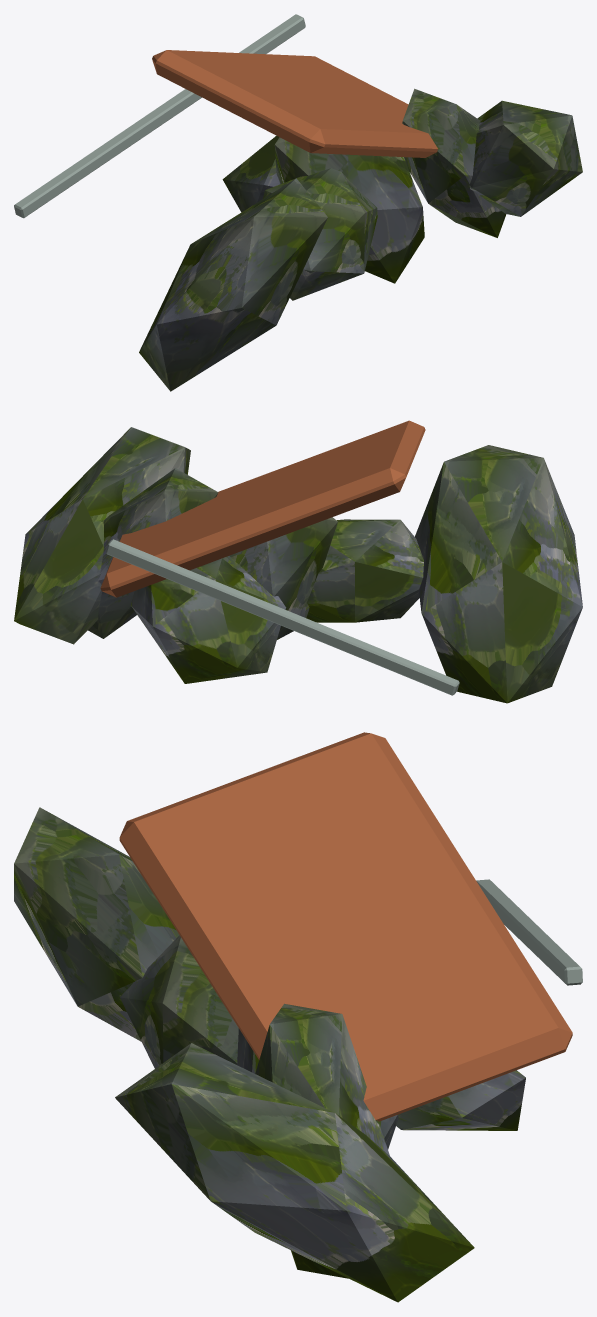
The model's file is Rubble_Cluster_3.glb.
The picture shows the model from 3 angles, top to bottom: view 1: azimuth 30°, elevation 25°; view 2: azimuth 150°, elevation 25°; view 3: azimuth 270°, elevation 25°; orthographic projection. The views are drawn at different scales.
Visible parts, largest first — view 1: Rubble_Cluster_3; view 2: Rubble_Cluster_3; view 3: Rubble_Cluster_3.
Boxes of the visible parts, box(x1,y1,x2,y2) form: Rubble_Cluster_3: box(14, 14, 582, 391); Rubble_Cluster_3: box(14, 420, 582, 703); Rubble_Cluster_3: box(14, 732, 582, 1302).
Bounding box in the file's own units: 1.68 × 0.8677 × 1.25.
3 materials, 1 textured.
